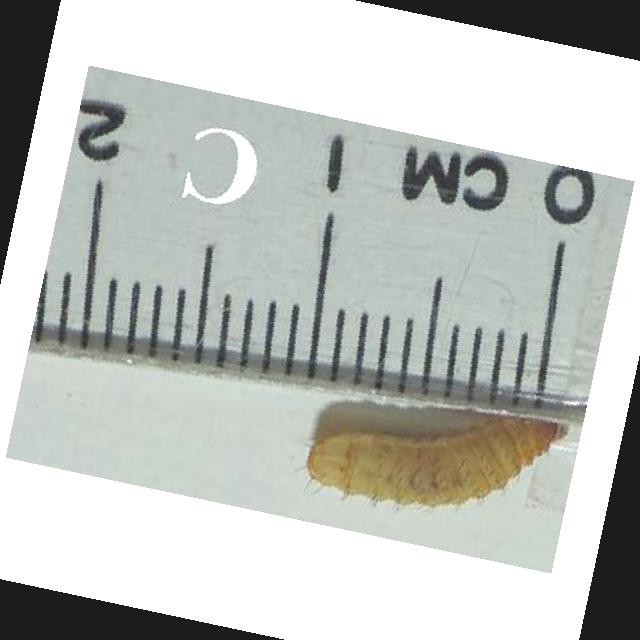Maggot: (308, 410, 569, 509)
